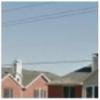chimneys: (11, 58, 23, 78), (92, 53, 98, 73)
